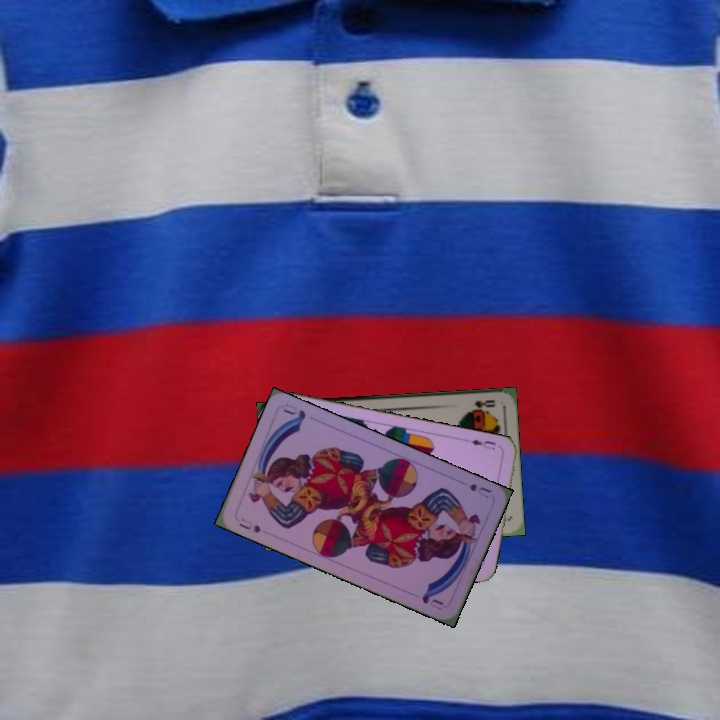EU: (467, 435, 504, 453)
SO: (467, 396, 497, 412)
SU: (465, 479, 494, 501), (235, 514, 263, 536)
